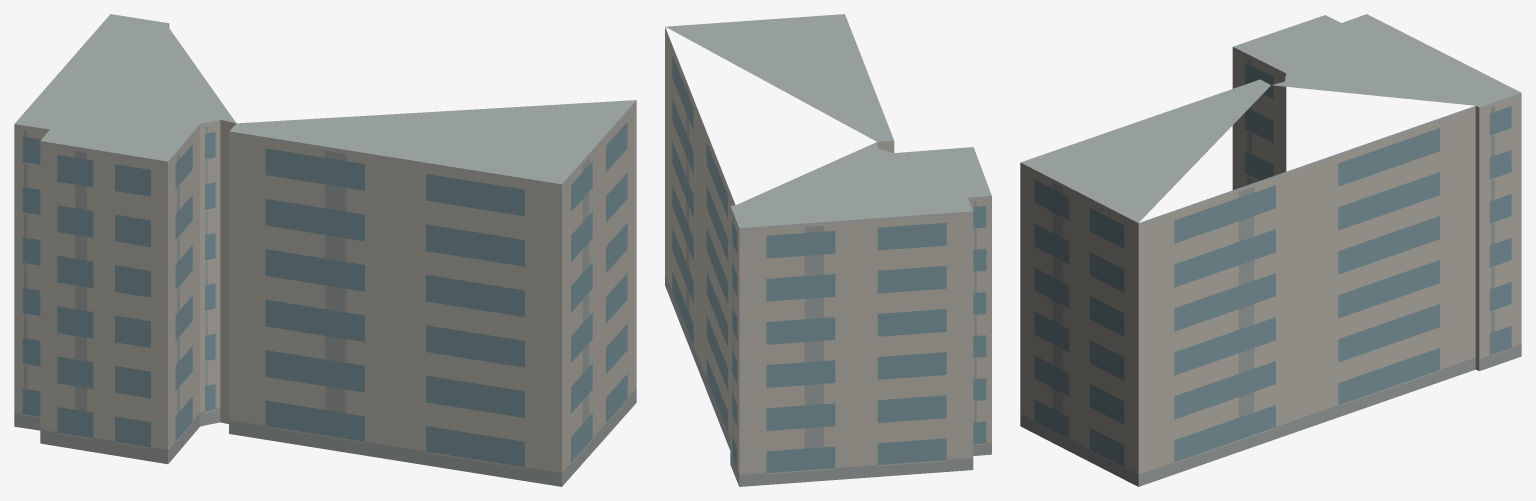
File: survey-upis-32834864.glb
3 views of the same model, side by side, from view 1: azimuth 30°, elevation 25°; view 2: azimuth 150°, elevation 25°; view 3: azimuth 270°, elevation 25° (orthographic). The views are drawn at different scales.
Visible parts, largest first — view 1: survey-upis-32834864.tmp; view 2: survey-upis-32834864.tmp; view 3: survey-upis-32834864.tmp.
Part boxes in pixels (x1,y1,x2,y2): survey-upis-32834864.tmp: [14, 14, 636, 486]; survey-upis-32834864.tmp: [665, 14, 991, 486]; survey-upis-32834864.tmp: [1020, 14, 1521, 486].
Size of the model in its own units: 29.76 by 17.5 by 30.14.
